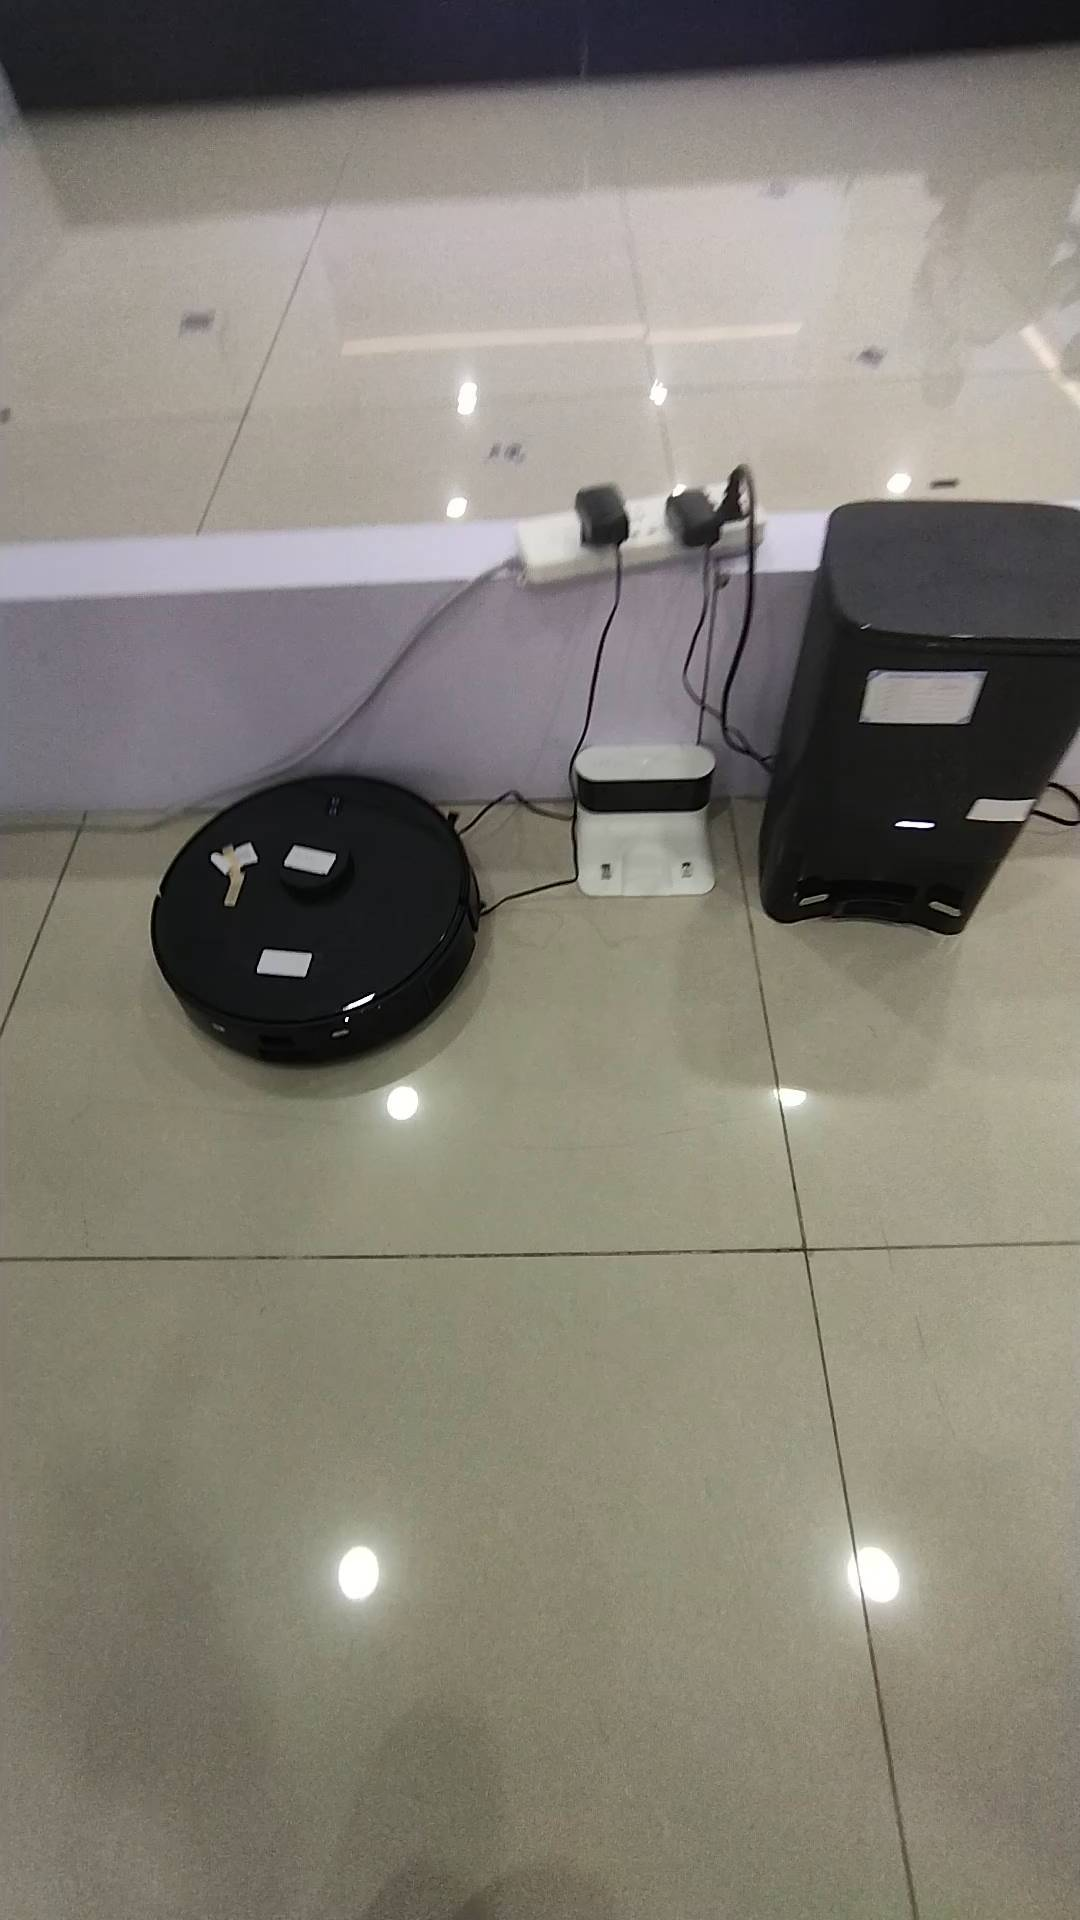dust collecting barrel: (761, 502, 1080, 943)
recharge seat: (572, 742, 723, 899)
